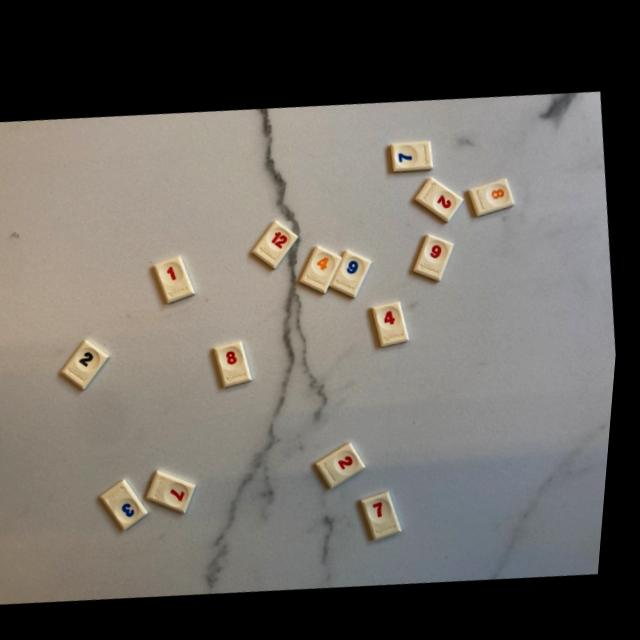black_2: (68, 338, 115, 387)
blue_3: (109, 476, 156, 526)
blue_7: (393, 133, 435, 165)
blue_9: (335, 243, 376, 290)
orange_4: (305, 240, 345, 286)
orange_8: (471, 169, 518, 207)
red_1: (158, 252, 199, 300)
red_12: (257, 216, 301, 263)
red_2: (323, 435, 372, 482), (417, 168, 466, 214)
red_4: (377, 294, 414, 338)
red_7: (369, 484, 410, 533), (156, 467, 203, 508)
red_8: (219, 336, 257, 382)
red_9: (418, 226, 457, 272)
